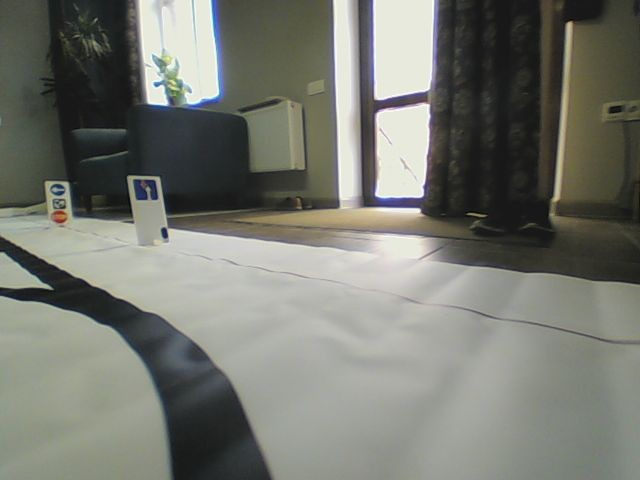priority_movement: (132, 177, 158, 201)
